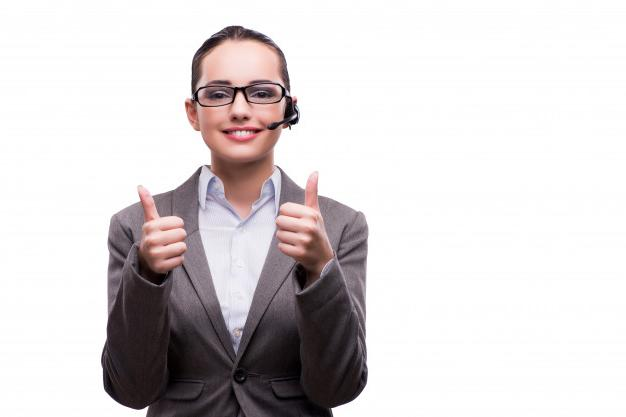thumbsup: (137, 183, 187, 273), (276, 169, 322, 259)
